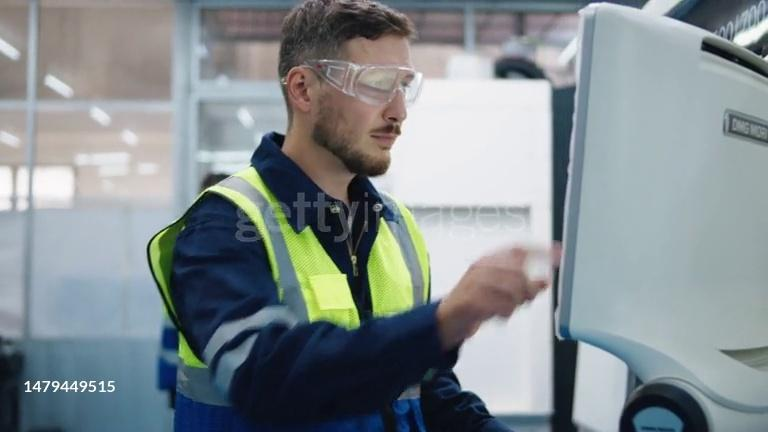person: (145, 1, 554, 429)
